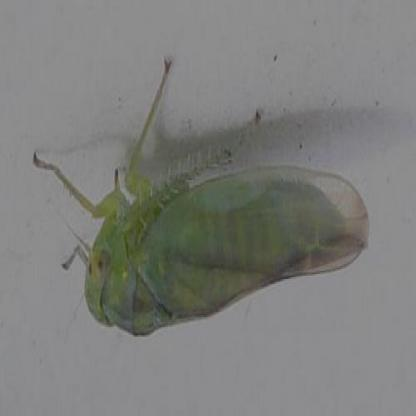green-leafhopper: (83, 147, 374, 349)
